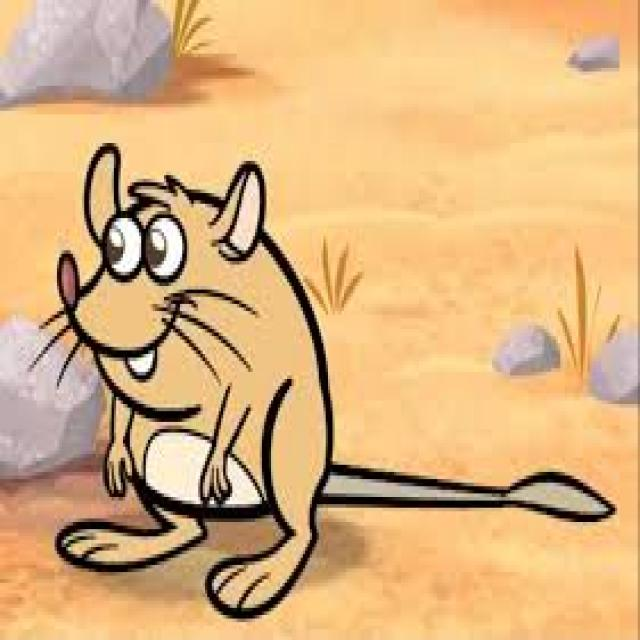rat: (28, 140, 332, 618)
